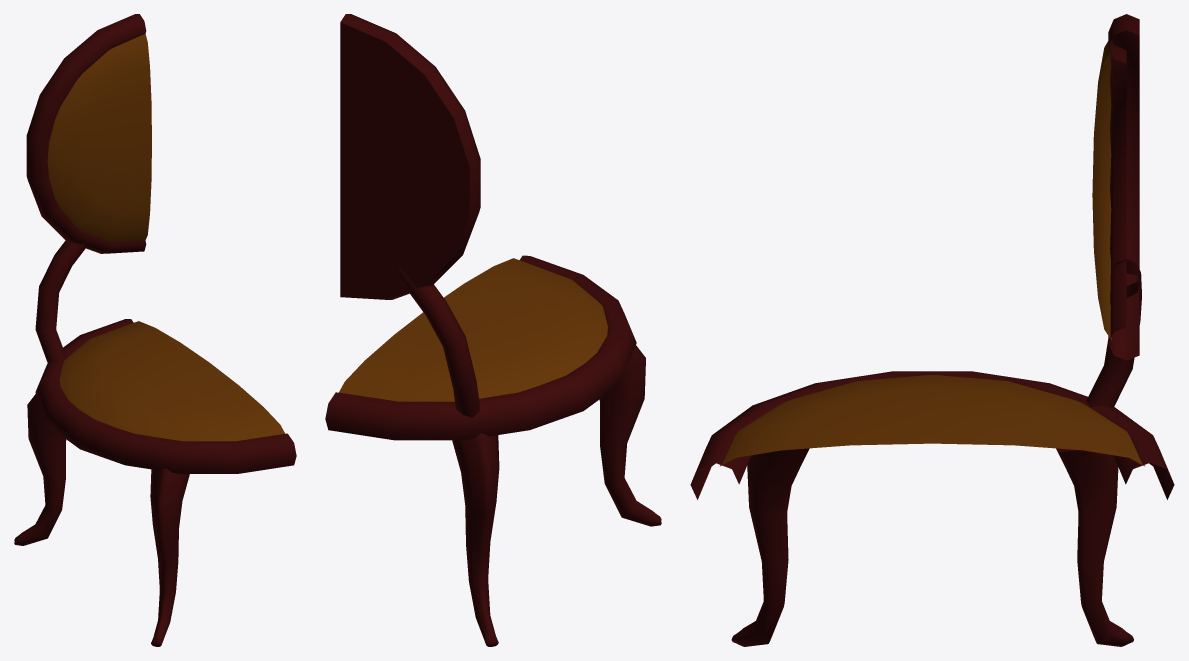
The model's file is renessaince_sofa_right.obj.
3 renders of one model, left to right at view 1: azimuth 30°, elevation 25°; view 2: azimuth 150°, elevation 25°; view 3: azimuth 270°, elevation 25°, orthographic. The views are drawn at different scales.
Parts seen in each view (by area): view 1: renessaince_sofa_right; view 2: renessaince_sofa_right; view 3: renessaince_sofa_right.
Part boxes in pixels (box(x1,y1,x2,y2)): renessaince_sofa_right: box(14, 14, 296, 646); renessaince_sofa_right: box(325, 14, 661, 646); renessaince_sofa_right: box(690, 14, 1174, 646).
Bounding box in the file's own units: 36.32 × 117 × 73.76.
